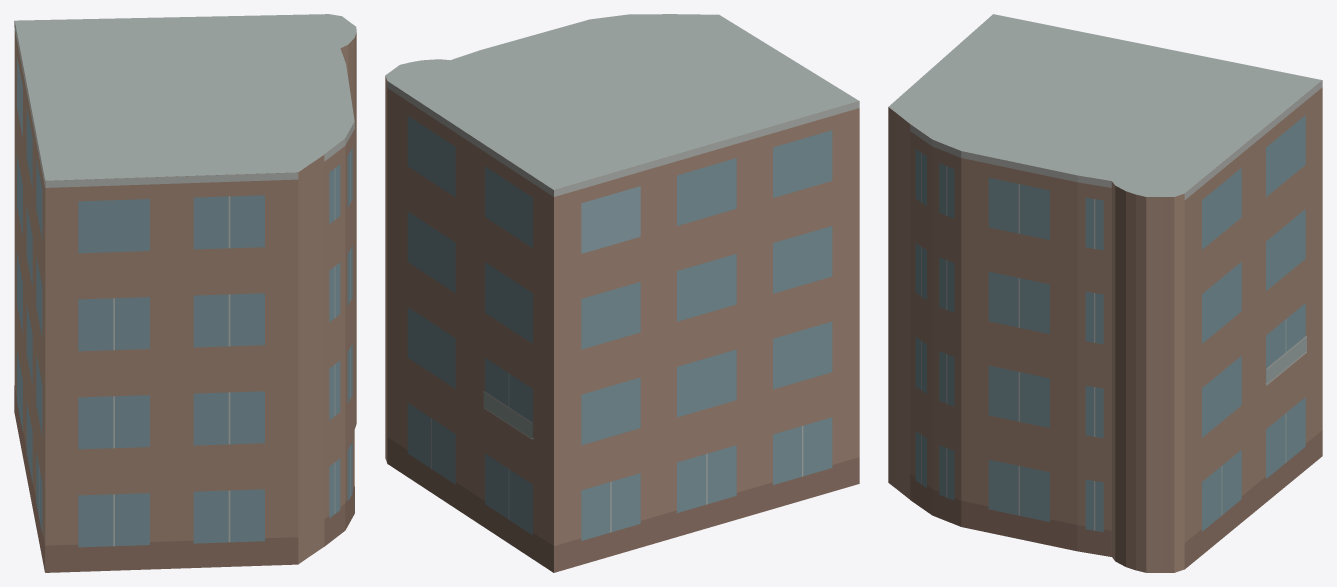
File: survey-upis-32728724.glb
3 renders of one model, left to right at view 1: azimuth 30°, elevation 25°; view 2: azimuth 150°, elevation 25°; view 3: azimuth 270°, elevation 25°, orthographic. The views are drawn at different scales.
Parts seen in each view (by area): view 1: survey-upis-32728724.tmp; view 2: survey-upis-32728724.tmp; view 3: survey-upis-32728724.tmp.
Part boxes in pixels (box(x1,y1,x2,y2)): survey-upis-32728724.tmp: box(14, 14, 356, 572); survey-upis-32728724.tmp: box(385, 14, 859, 572); survey-upis-32728724.tmp: box(888, 14, 1322, 572).
Size of the model in its own units: 13.89 by 13.3 by 13.94.
